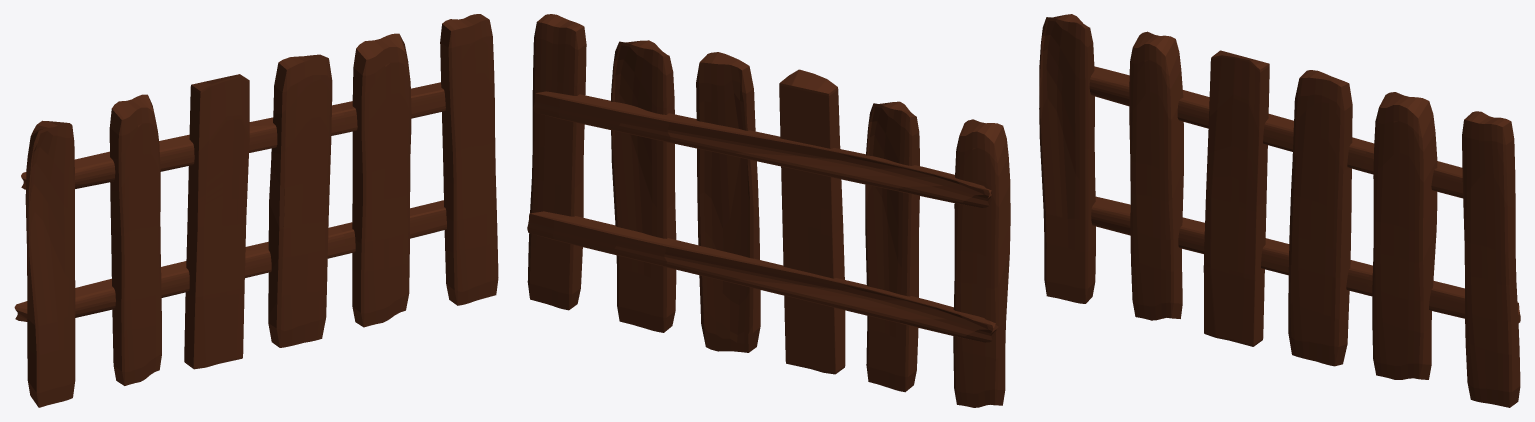
The model's file is zaun_einzelteil.fbx.
3 renders of one model, left to right at view 1: azimuth 30°, elevation 25°; view 2: azimuth 150°, elevation 25°; view 3: azimuth 330°, elevation 25°, orthographic.
Visible parts, largest first — view 1: Cube.004, Cube.003, Cube.002, Cube.001, Cube.005, Cube.006, Cube.008, Cube.007; view 2: Cube.004, Cube.003, Cube.002, Cube.008, Cube.006, Cube.007, Cube.001, Cube.005; view 3: Cube.004, Cube.002, Cube.003, Cube.001, Cube.006, Cube.005, Cube.007, Cube.008.
Boxes of the visible parts, bbox=[...] form: Cube.004: bbox=[184, 74, 249, 369]; Cube.003: bbox=[268, 54, 332, 347]; Cube.002: bbox=[352, 33, 411, 327]; Cube.001: bbox=[440, 14, 498, 305]; Cube.005: bbox=[109, 94, 161, 385]; Cube.006: bbox=[25, 120, 75, 407]; Cube.008: bbox=[14, 200, 446, 321]; Cube.007: bbox=[21, 82, 445, 189]; Cube.004: bbox=[779, 69, 845, 374]; Cube.003: bbox=[696, 52, 760, 352]; Cube.002: bbox=[611, 40, 676, 332]; Cube.008: bbox=[527, 211, 998, 342]; Cube.006: bbox=[953, 119, 1010, 407]; Cube.007: bbox=[533, 91, 991, 207]; Cube.001: bbox=[527, 14, 586, 310]; Cube.005: bbox=[865, 101, 919, 392]; Cube.004: bbox=[1203, 50, 1269, 346]; Cube.002: bbox=[1372, 92, 1437, 379]; Cube.003: bbox=[1288, 70, 1352, 366]; Cube.001: bbox=[1462, 111, 1520, 407]; Cube.006: bbox=[1039, 14, 1095, 303]; Cube.005: bbox=[1129, 31, 1183, 320]; Cube.007: bbox=[1089, 66, 1463, 198]; Cube.008: bbox=[1091, 196, 1520, 322].
Size of the model in its own units: 411 by 242 by 27.95.
